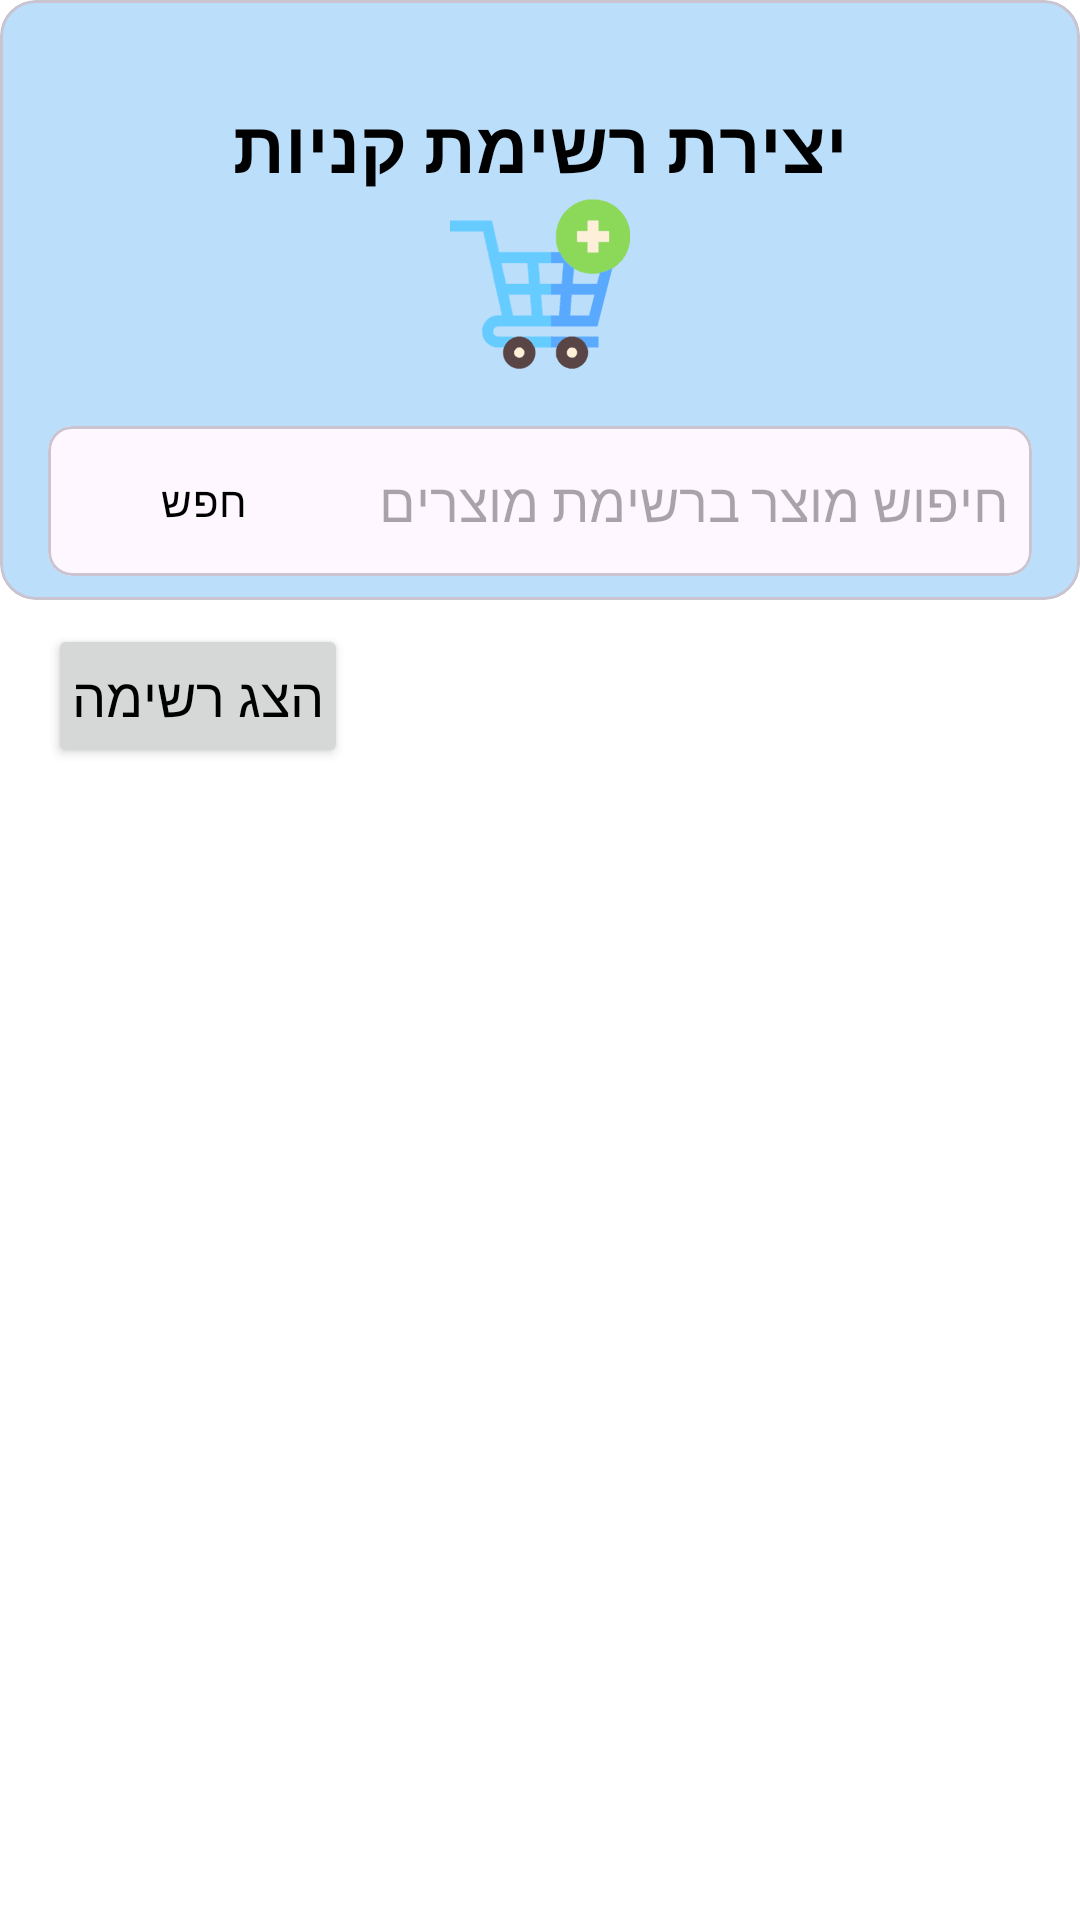

Named icons in this screenshot (1080w x 1920h) and their centers, (x,y):
add to cart: (540,284)
